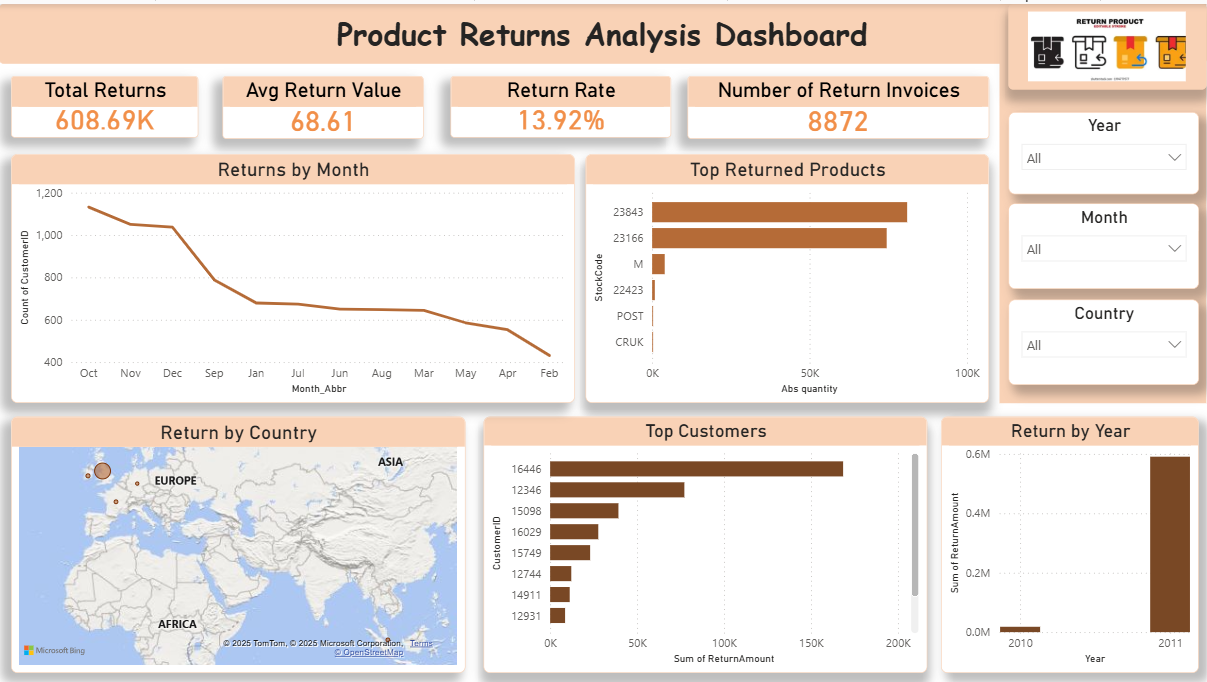

The page's visual inventory and layout, read from the dashboard file:
{"tool":"powerbi","page":{"name":"Product Returns Analysis Dashboard","canvas":[1280,720],"ordinal":1},"visuals":[{"type":"card","title":"Total Returns","fields":{"Values":["Sum(Returns.ReturnAmount)"]},"box":[12.7,76.3,198.8,65.2],"z":0},{"type":"card","title":"Number of Return Invoices","fields":{"Values":["CountNonNull(Returns.InvoiceNo)"]},"box":[730.1,76.3,319.7,66.8],"z":1000},{"type":"card","title":"Avg Return Value","fields":{"Values":["Avg(Returns.ReturnAmount)"]},"box":[237,76.3,213.1,66.8],"z":2000},{"type":"card","title":"Return Rate ","fields":{"Values":["Returns.Return rate"]},"box":[478.8,76.3,233.8,65.2],"z":3000},{"type":"barChart","title":"Top Returned Products","fields":{"Category":["Returns.StockCode"],"Y":["Returns.Abs quantity"]},"box":[621.9,159.1,427.9,264],"z":4000},{"type":"barChart","title":"Top Customers","fields":{"Category":["Returns.CustomerID"],"Y":["Sum(Returns.ReturnAmount)"]},"box":[513.8,437.4,470.8,272],"z":5000},{"type":"lineChart","title":"Returns by Month","fields":{"Y":["CountNonNull(Returns.CustomerID)"],"Category":["Returns.Month_Abbr"]},"box":[12.7,159.1,598.1,264],"z":6000},{"type":"columnChart","title":"Return by Year","fields":{"Y":["Sum(Returns.ReturnAmount)"],"Category":["Returns.Year"]},"box":[998.9,437.4,273.6,272],"z":7000},{"type":"map","title":"Return by Country","fields":{"Category":["Returns.Country"],"Size":["Sum(Returns.ReturnAmount)"]},"box":[12.7,437.4,482,272],"z":8000},{"type":"textbox","box":[0,0,1280.4,63.6],"z":9000},{"type":"image","box":[1060.9,0,219.5,101.8],"z":10000},{"type":"textbox","box":[1060.9,0,219.5,423.1],"z":11000},{"type":"image","box":[1070.5,0,210,90.7],"z":12000},{"type":"slicer","title":"Year","fields":{"Values":["Returns.Year"]},"box":[1070.5,114.5,202,87.5],"z":13000},{"type":"slicer","title":"Month","fields":{"Values":["Returns.Month"]},"box":[1070.5,211.6,202,90.7],"z":14000},{"type":"slicer","title":"Country","fields":{"Values":["Returns.Country"]},"box":[1070.5,313.4,202,90.7],"z":15000}]}

Visuals, with their boxes in screenshot pixels (x1, y1, x2, y2), scaled from the page's 1280x720 canvas onto the 1207x682 screenshot:
"Total Returns" card: [12,72,199,134]
"Number of Return Invoices" card: [688,72,990,136]
"Avg Return Value" card: [223,72,424,136]
"Return Rate " card: [451,72,672,134]
"Top Returned Products" barChart: [586,151,990,401]
"Top Customers" barChart: [484,414,928,672]
"Returns by Month" lineChart: [12,151,576,401]
"Return by Year" columnChart: [942,414,1200,672]
"Return by Country" map: [12,414,466,672]
textbox: [0,0,1206,60]
image: [1000,0,1206,96]
textbox: [1000,0,1206,401]
image: [1009,0,1206,86]
"Year" slicer: [1009,108,1200,191]
"Month" slicer: [1009,200,1200,286]
"Country" slicer: [1009,297,1200,383]
